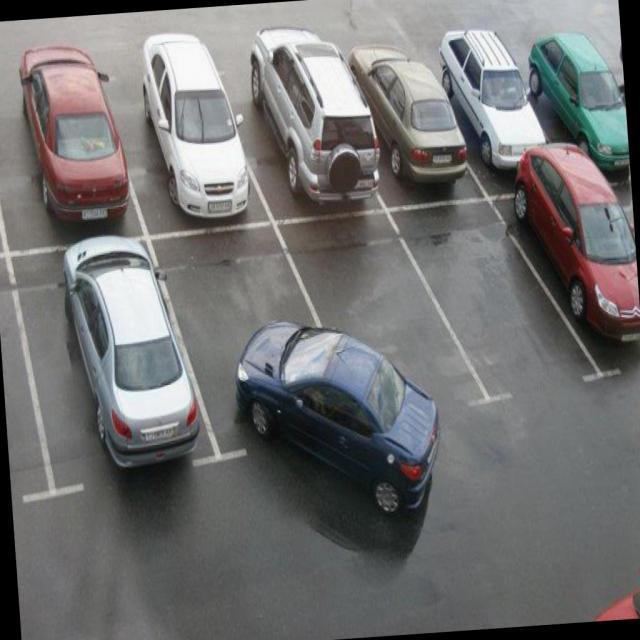space-empty: (411, 184, 589, 423), (315, 204, 470, 422)
space-occupied: (27, 218, 197, 509), (159, 222, 329, 482), (503, 164, 639, 388), (225, 43, 375, 221), (0, 76, 144, 260), (115, 52, 263, 230), (345, 51, 473, 209), (519, 20, 630, 183), (447, 43, 554, 197)
